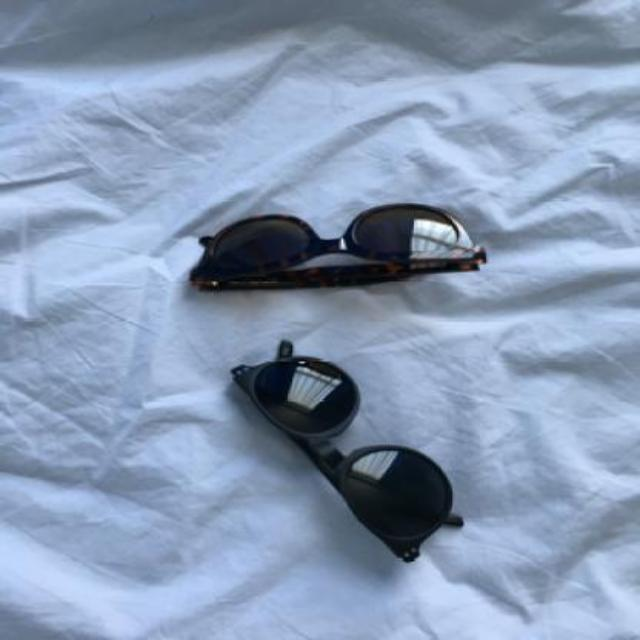glasses: (228, 340, 468, 564), (186, 204, 487, 290)
